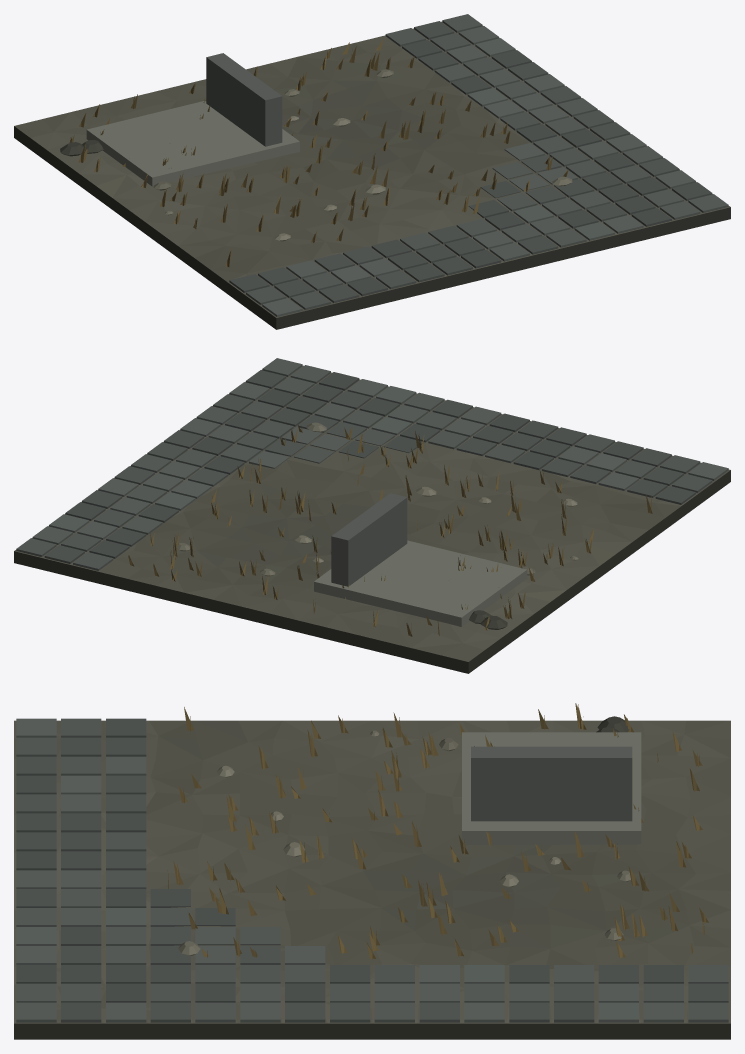
File: CHUNK_ruined_monastery__fallen_guardian_seal__00.glb
The picture shows the model from 3 angles, top to bottom: view 1: azimuth 30°, elevation 25°; view 2: azimuth 150°, elevation 25°; view 3: azimuth 270°, elevation 25°; orthographic projection. The views are drawn at different scales.
Parts seen in each view (by area): view 1: CHUNK_ruined_monastery__fallen_guardian_seal__00; view 2: CHUNK_ruined_monastery__fallen_guardian_seal__00; view 3: CHUNK_ruined_monastery__fallen_guardian_seal__00.
Boxes of the visible parts, x1,y1,x2,y2 form: CHUNK_ruined_monastery__fallen_guardian_seal__00: [14, 14, 730, 329]; CHUNK_ruined_monastery__fallen_guardian_seal__00: [14, 358, 730, 673]; CHUNK_ruined_monastery__fallen_guardian_seal__00: [14, 703, 730, 1039].
Bounding box in the file's own units: 8 × 1.16 × 8.
